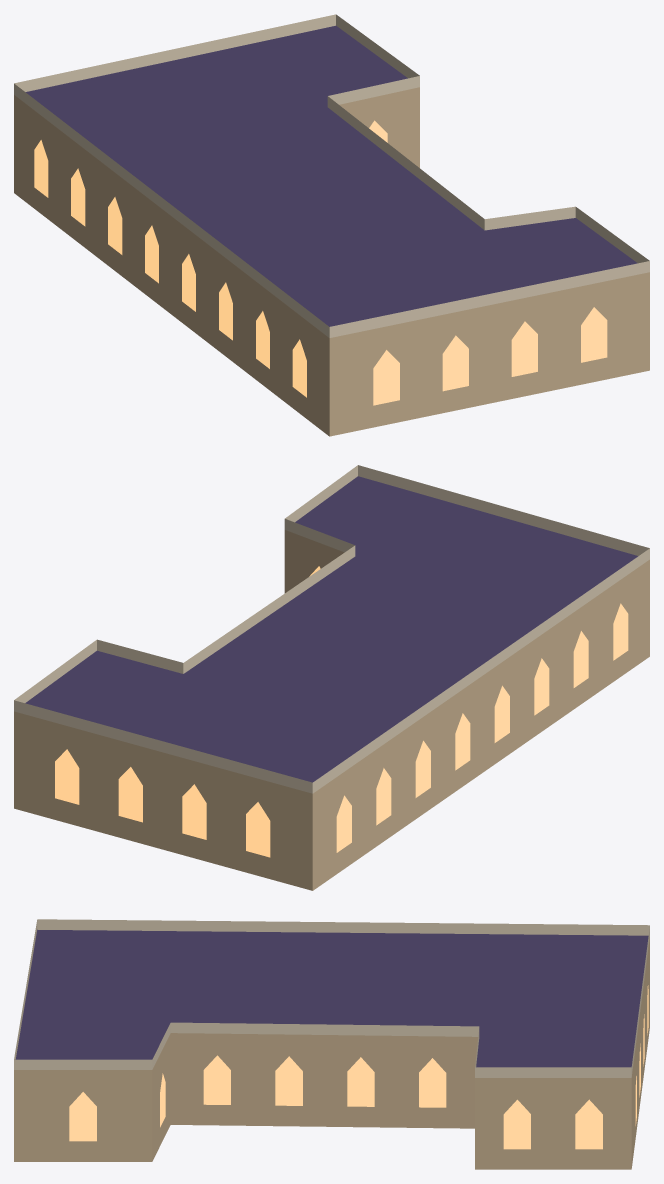
The model's file is b-008-henderson-house.glb.
3 views of the same model, one above another, from view 1: azimuth 30°, elevation 25°; view 2: azimuth 150°, elevation 25°; view 3: azimuth 270°, elevation 25° (orthographic). The views are drawn at different scales.
Visible parts, largest first — view 1: campus/b-008-henderson-house-0; view 2: campus/b-008-henderson-house-0; view 3: campus/b-008-henderson-house-0.
Boxes of the visible parts, bbox=[...] form: campus/b-008-henderson-house-0: bbox=[14, 14, 649, 436]; campus/b-008-henderson-house-0: bbox=[14, 465, 649, 890]; campus/b-008-henderson-house-0: bbox=[14, 919, 649, 1169].
Bounding box in the file's own units: 16.67 × 5.35 × 30.13.
